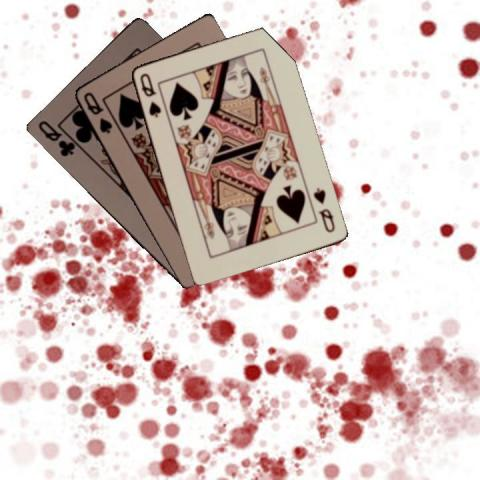Qc: (35, 117, 76, 158)
Qs: (80, 89, 113, 135), (136, 70, 162, 119), (310, 185, 336, 234)
